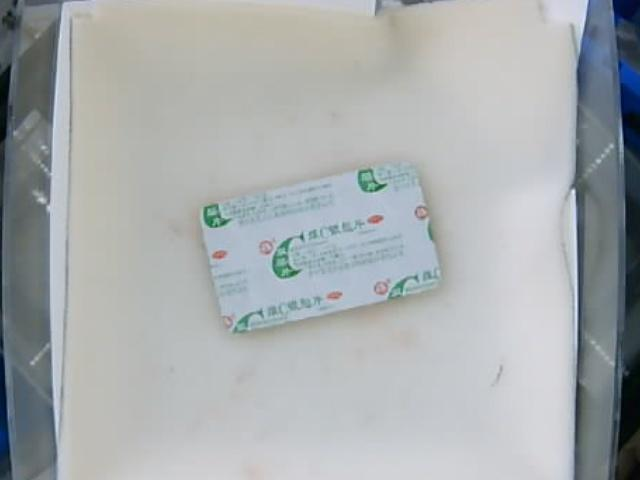Medicine: (201, 160, 442, 336)
